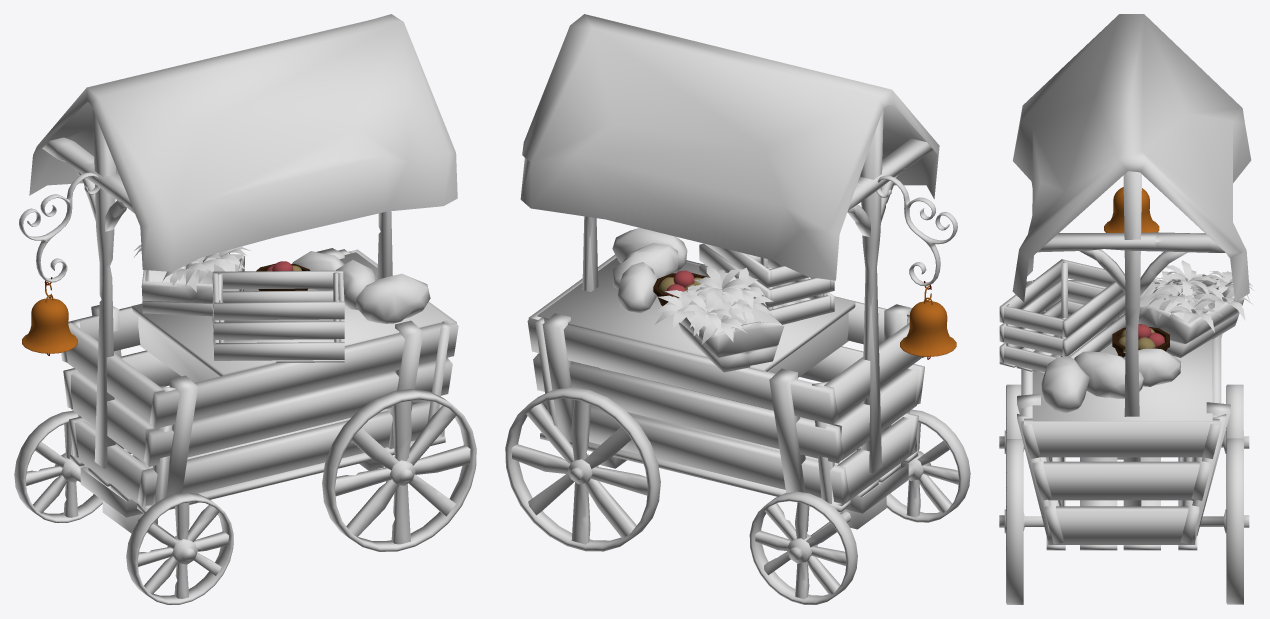
The model's file is Cart_food.fbx.
The picture shows the model from 3 angles, left to right: view 1: azimuth 30°, elevation 25°; view 2: azimuth 150°, elevation 25°; view 3: azimuth 270°, elevation 25°; orthographic projection. The views are drawn at different scales.
Visible parts, largest first — view 1: WagonCover.001, Create_Wood.001, Create_Wood, WoodCart.001, Wheel_Rim_a.001, WagonPost.002, Potatoe.006, Wheel_Rim_b.001, Wagon.001, Wall Bell 2, IronClamp.004, Wheel_Rim_b.002 (+15 smaller); view 2: WagonCover.001, Create_Wood.001, WoodCart.001, Wheel_Rim_a.002, Create_Wood, WagonPost.002, Potatoe.006, Wagon.001, Wheel_Rim_b.002, IronClamp.003, Wall Bell 2, SpokeLarge.010 (+20 smaller); view 3: WagonCover.001, Create_Wood.001, Create_Wood, WoodCart.001, Potatoe.006, WagonPost.001, Wagon.001, WagonBraceBeam.001, Wheel_Rim_a.002, Wheel_Rim_a.001, Wall Bell 2, bowl001 (+11 smaller).
Part boxes in pixels (<box>): WagonCover.001: <box>29,14,457,271</box>; Create_Wood.001: <box>61,249,458,513</box>; Create_Wood: <box>212,270,344,362</box>; WoodCart.001: <box>132,252,447,382</box>; Wheel_Rim_a.001: <box>322,389,476,551</box>; WagonPost.002: <box>93,110,115,468</box>; Potatoe.006: <box>292,251,430,323</box>; Wheel_Rim_b.001: <box>126,492,233,604</box>; Wagon.001: <box>141,254,244,316</box>; Wall Bell 2: <box>22,277,77,355</box>; IronClamp.004: <box>166,375,197,496</box>; Wheel_Rim_b.002: <box>14,410,102,522</box>; WagonCover.001: <box>520,14,939,280</box>; Create_Wood.001: <box>527,254,925,512</box>; WoodCart.001: <box>537,257,855,377</box>; Wheel_Rim_a.002: <box>505,387,660,551</box>; Create_Wood: <box>699,243,834,324</box>; WagonPost.002: <box>860,109,883,473</box>; Potatoe.006: <box>612,228,687,313</box>; Wagon.001: <box>678,289,784,372</box>; Wheel_Rim_b.002: <box>749,491,857,604</box>; IronClamp.003: <box>769,368,805,492</box>; Wall Bell 2: <box>900,281,956,359</box>; SpokeLarge.010: <box>526,403,636,538</box>; WagonCover.001: <box>1012,14,1251,302</box>; Create_Wood.001: <box>1017,280,1226,550</box>; Create_Wood: <box>999,259,1125,373</box>; WoodCart.001: <box>1032,312,1212,421</box>; Potatoe.006: <box>1041,348,1180,412</box>; WagonPost.001: <box>1123,171,1141,506</box>; Wagon.001: <box>1138,274,1243,357</box>; WagonBraceBeam.001: <box>1038,232,1225,252</box>; Wheel_Rim_a.002: <box>1226,438,1243,604</box>; Wheel_Rim_a.001: <box>1006,439,1023,604</box>; Wall Bell 2: <box>1104,187,1159,232</box>; bowl001: <box>1112,324,1169,357</box>.
Size of the model in its own units: 1.75 by 1.01 by 2.01.
